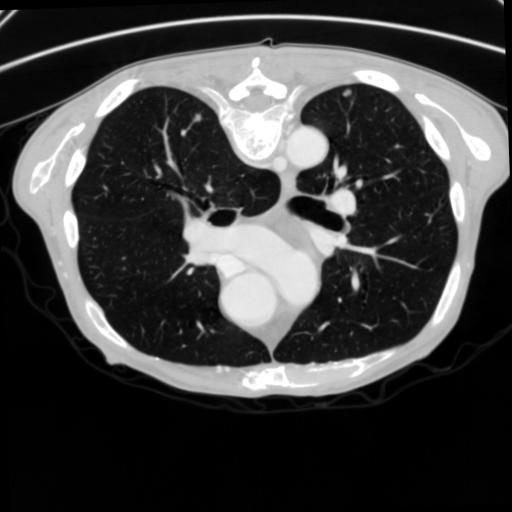nodule: (190, 112, 203, 125)
